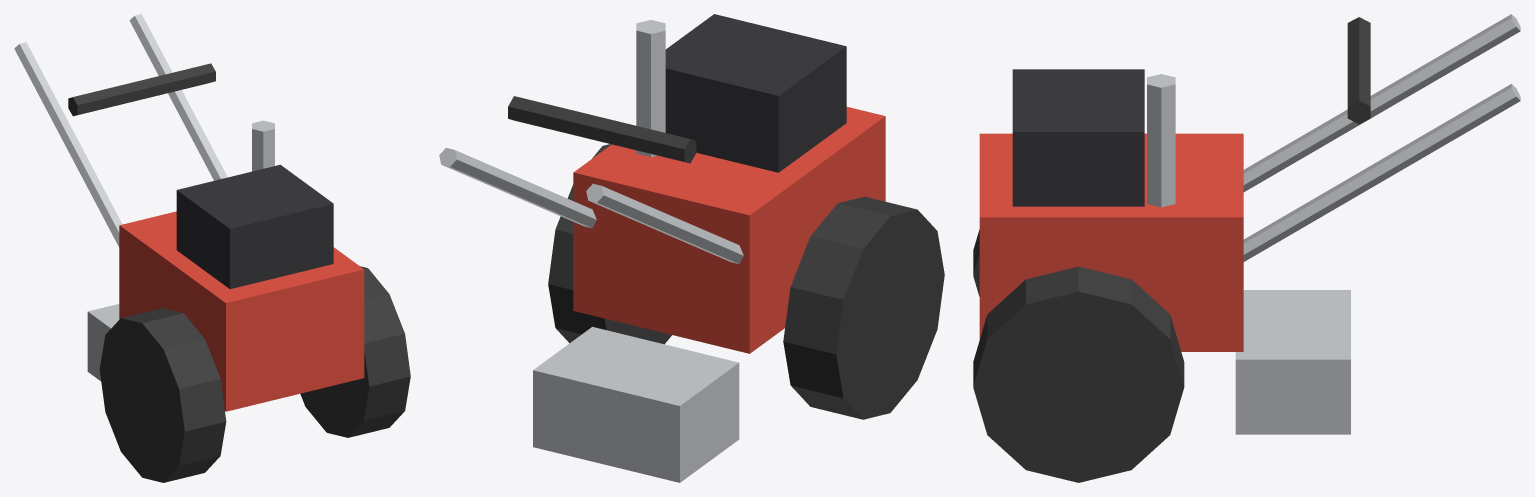
File: kounki.glb
The picture shows the model from 3 angles, left to right: view 1: azimuth 30°, elevation 25°; view 2: azimuth 150°, elevation 25°; view 3: azimuth 270°, elevation 25°; orthographic projection. The views are drawn at different scales.
Parts seen in each view (by area): view 1: kounki; view 2: kounki; view 3: kounki.
Boxes of the visible parts, x1=… form: kounki: x1=14, y1=14, x2=410, y2=482; kounki: x1=439, y1=14, x2=944, y2=482; kounki: x1=973, y1=14, x2=1520, y2=482.
Bounding box in the file's own units: 0.98 × 1.22 × 1.66.
